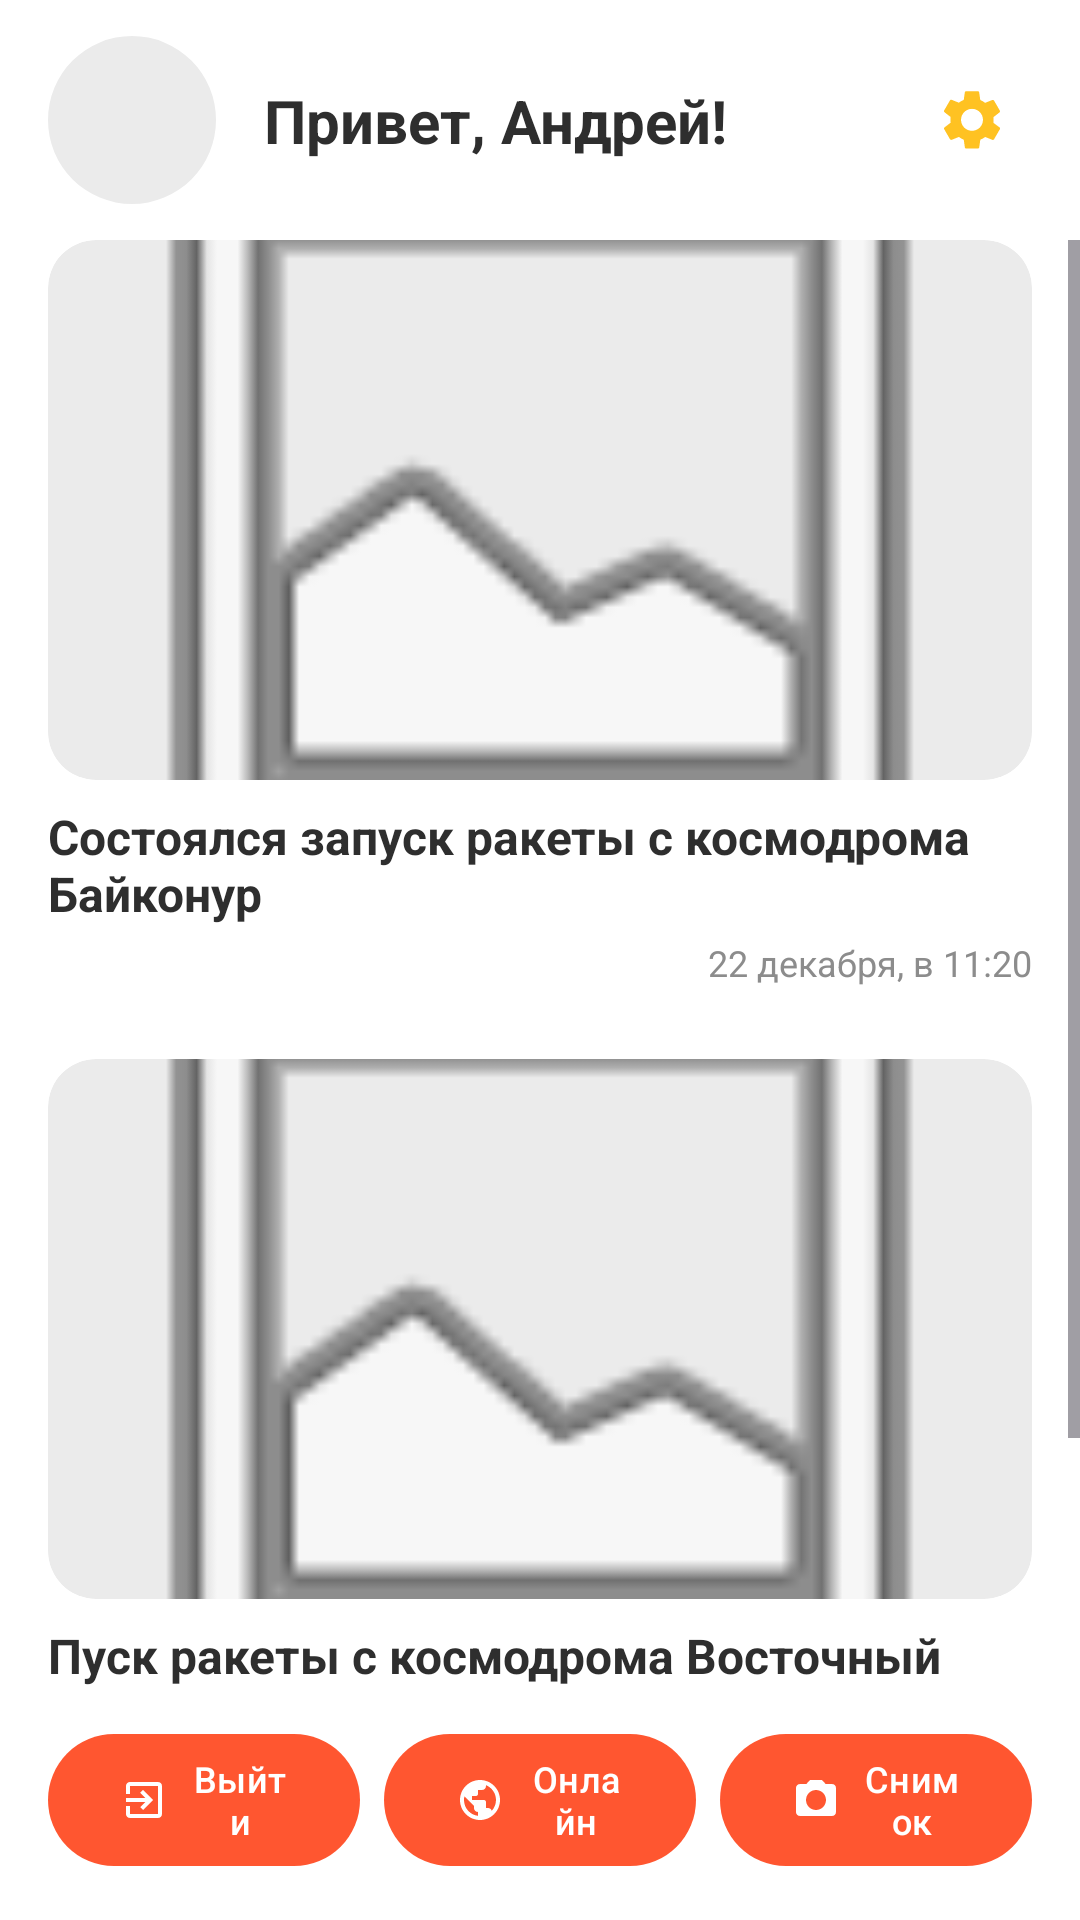

Point at icon controls on the screen. Image size 1080 x 1920, points as (x,y).
Settings: (972,120)
